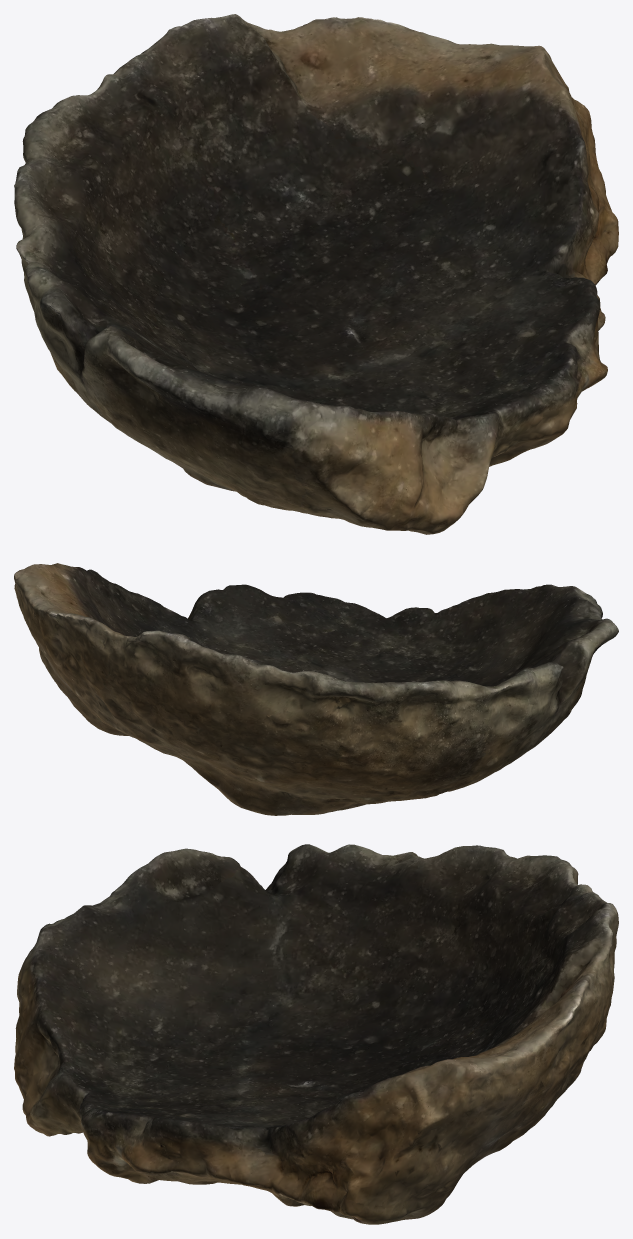
3 renders of one model, top to bottom at view 1: azimuth 30°, elevation 25°; view 2: azimuth 150°, elevation 25°; view 3: azimuth 270°, elevation 25°, orthographic. The views are drawn at different scales.
Visible parts, largest first — view 1: Mesh_0; view 2: Mesh_0; view 3: Mesh_0.
Boxes of the visible parts, <box> form: Mesh_0: <box>14,14,618,534</box>; Mesh_0: <box>14,563,618,815</box>; Mesh_0: <box>14,844,618,1224</box>.
Bounding box in the file's own units: 0.183 × 0.0826 × 0.1701.
1 material, 1 textured.
